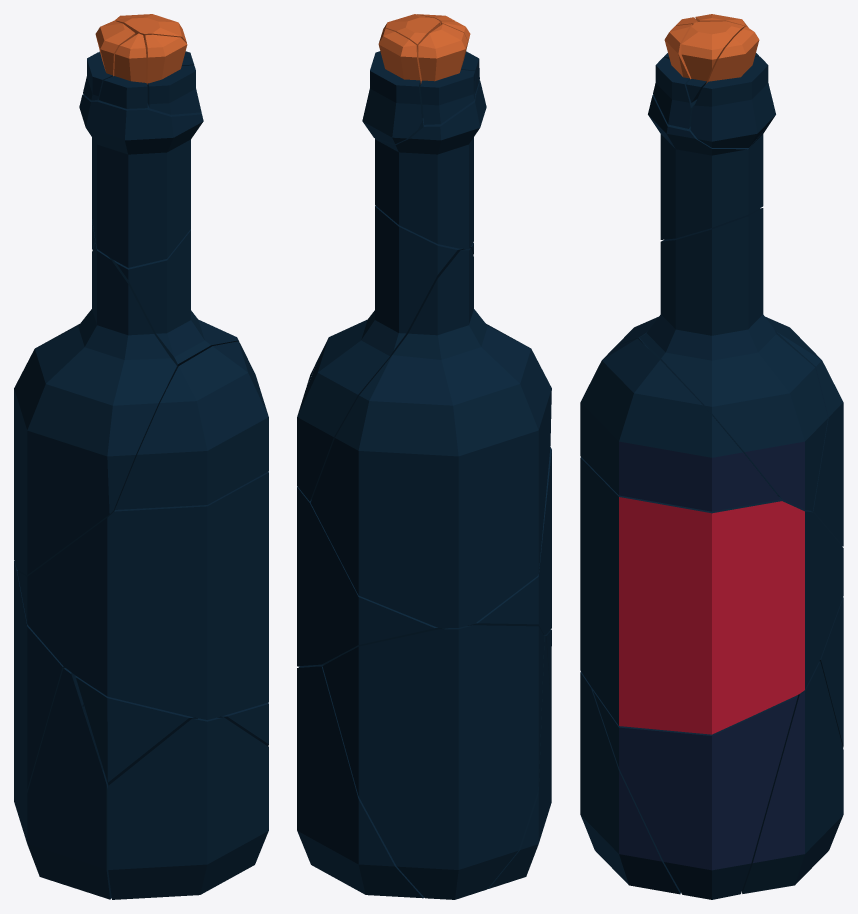
The model's file is bouteille_fracture.fbx.
3 views of the same model, side by side, from view 1: azimuth 30°, elevation 25°; view 2: azimuth 150°, elevation 25°; view 3: azimuth 270°, elevation 25° (orthographic).
Visible parts, largest first — view 1: Bouteille_cell.001, Bouteille_cell.005, Bouteille_cell.010, Bouteille_cell.013, Bouteille_cell.004, Bouteille_cell.002, Bouteille_cell.007, Bouteille_cell.003, Bouteille_cell.009, Bouteille_cell.006, Bouteille_cell.008, Bouteille_cell.012 (+1 smaller); view 2: Bouteille_cell.005, Bouteille_cell.009, Bouteille_cell.003, Bouteille_cell.001, Bouteille_cell.011, Bouteille_cell.004, Bouteille_cell.014, Bouteille_cell.012, Bouteille_cell.002, Bouteille_cell, Bouteille_cell.008; view 3: Bouteille_cell.001, Bouteille_cell.003, Bouteille_cell.007, Bouteille_cell.013, Bouteille_cell.011, Bouteille_cell.004, Bouteille_cell.010, Bouteille_cell.014, Bouteille_cell.005, Bouteille_cell.006, Bouteille_cell, Bouteille_cell.009.
Boxes of the visible parts, <box> form: Bouteille_cell.001: <box>17,471,268,719</box>; Bouteille_cell.005: <box>14,243,176,574</box>; Bouteille_cell.010: <box>108,717,268,899</box>; Bouteille_cell.013: <box>115,341,268,509</box>; Bouteille_cell.004: <box>79,94,203,267</box>; Bouteille_cell.002: <box>24,668,111,899</box>; Bouteille_cell.007: <box>74,675,268,785</box>; Bouteille_cell.003: <box>92,219,239,370</box>; Bouteille_cell.009: <box>14,561,83,833</box>; Bouteille_cell.006: <box>145,34,201,114</box>; Bouteille_cell.008: <box>99,33,147,108</box>; Bouteille_cell.012: <box>83,21,135,100</box>; Bouteille_cell.005: <box>310,248,551,627</box>; Bouteille_cell.009: <box>322,625,544,899</box>; Bouteille_cell.003: <box>297,205,473,501</box>; Bouteille_cell.001: <box>297,447,551,666</box>; Bouteille_cell.011: <box>297,666,424,898</box>; Bouteille_cell.004: <box>375,80,486,248</box>; Bouteille_cell.014: <box>362,28,423,143</box>; Bouteille_cell.012: <box>418,24,475,124</box>; Bouteille_cell.002: <box>488,636,551,888</box>; Bouteille_cell: <box>382,14,439,51</box>; Bouteille_cell.008: <box>440,21,479,93</box>; Bouteille_cell.001: <box>580,457,843,734</box>; Bouteille_cell.003: <box>639,208,827,510</box>; Bouteille_cell.007: <box>592,689,797,899</box>; Bouteille_cell.013: <box>580,338,780,511</box>; Bouteille_cell.011: <box>742,661,843,893</box>; Bouteille_cell.004: <box>648,94,769,239</box>; Bouteille_cell.010: <box>580,672,680,894</box>; Bouteille_cell.014: <box>690,26,775,147</box>; Bouteille_cell.005: <box>616,316,843,546</box>; Bouteille_cell.006: <box>653,24,695,128</box>; Bouteille_cell: <box>681,21,744,106</box>; Bouteille_cell.009: <box>819,597,843,747</box>.
Bounding box in the file's own units: 32.48 × 113 × 32.48.
